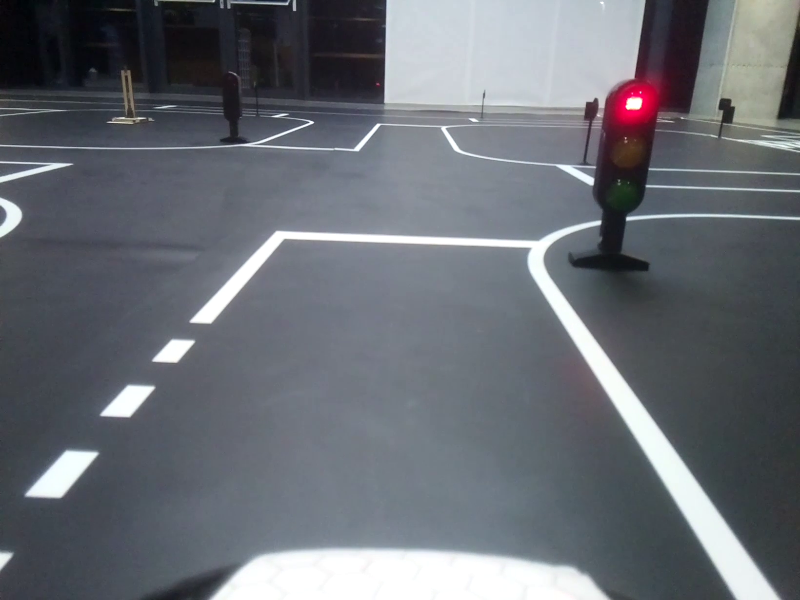traffic_red: (598, 79, 655, 218)
